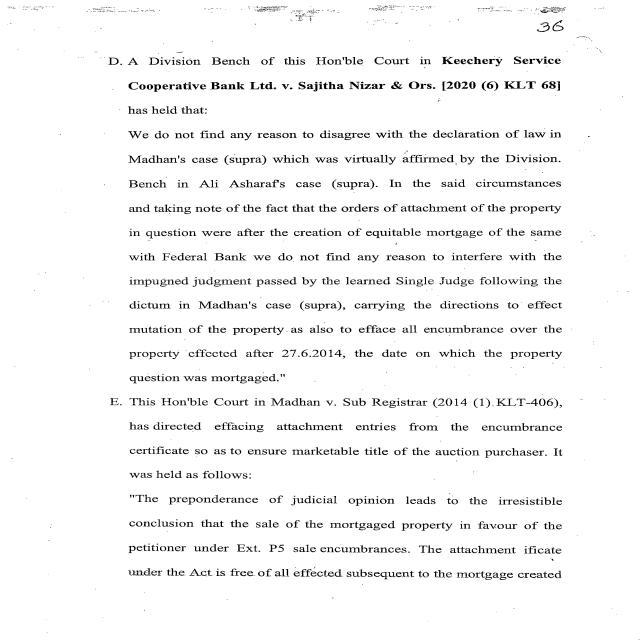page-number: (431, 0, 639, 55)
